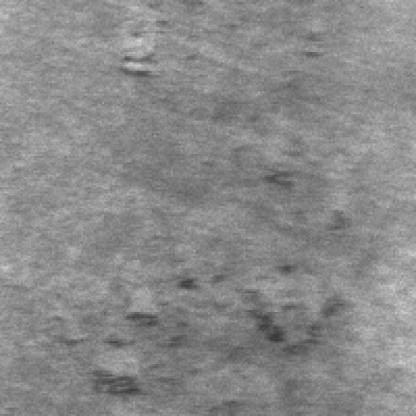rolled-in_scale: (57, 266, 346, 389), (114, 23, 175, 85)
